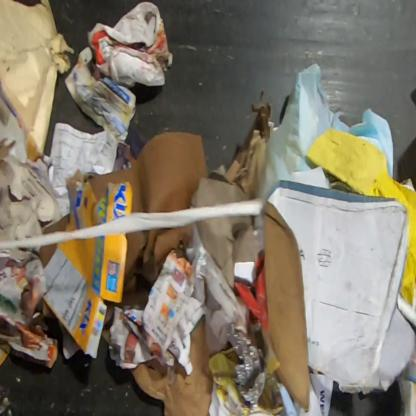cardboard: (262, 178, 415, 415), (42, 232, 128, 360), (85, 130, 208, 213), (129, 313, 213, 415), (122, 223, 193, 311), (196, 214, 260, 289), (64, 168, 134, 231), (225, 322, 267, 415), (190, 168, 249, 208), (42, 213, 70, 234), (38, 244, 57, 268)
